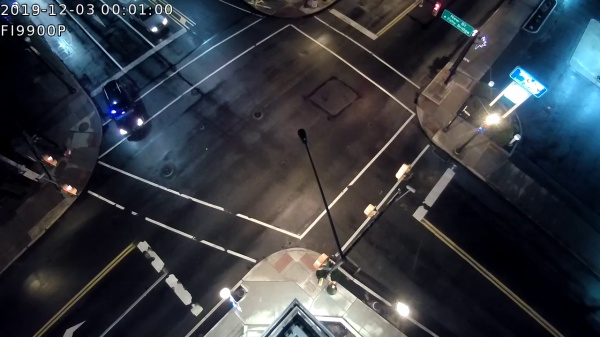car: (97, 79, 152, 138), (112, 1, 170, 38)
